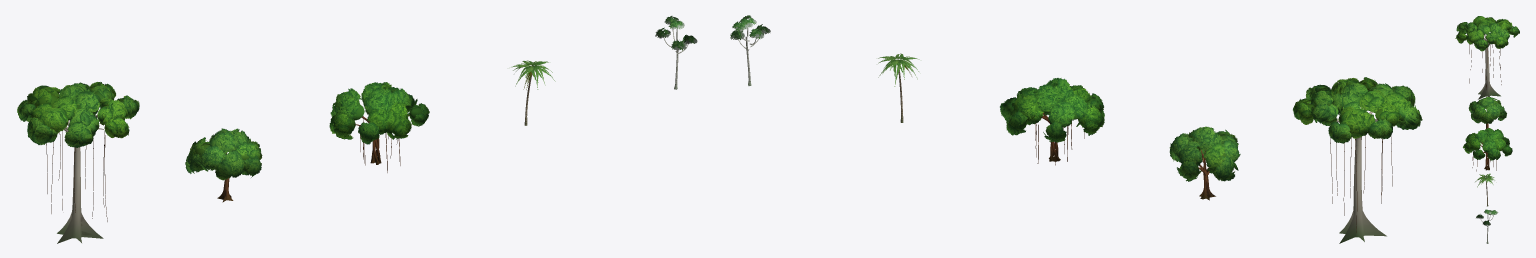
Rendered from EldoriaArvoresTropicais.glb.
3 views of the same model, side by side, from view 1: azimuth 30°, elevation 25°; view 2: azimuth 150°, elevation 25°; view 3: azimuth 270°, elevation 25° (orthographic). The views are drawn at different scales.
Visible parts, largest first — view 1: sumauma_LOD0, figueira_LOD0, copaLarga_LOD0, embauba_LOD0, palmeira_LOD0; view 2: sumauma_LOD0, figueira_LOD0, copaLarga_LOD0, embauba_LOD0, palmeira_LOD0; view 3: sumauma_LOD0, figueira_LOD0, copaLarga_LOD0, embauba_LOD0, palmeira_LOD0.
Boxes of the visible parts, x1,y1,x2,y2 form: sumauma_LOD0: (17,82,139,243); figueira_LOD0: (329,82,429,172); copaLarga_LOD0: (185,128,262,202); embauba_LOD0: (655,16,697,89); palmeira_LOD0: (511,60,555,125); sumauma_LOD0: (1293,77,1422,243); figueira_LOD0: (1000,78,1104,165); copaLarga_LOD0: (1169,126,1240,200); embauba_LOD0: (730,15,770,85); palmeira_LOD0: (878,53,919,122); sumauma_LOD0: (1455,16,1519,99); figueira_LOD0: (1463,128,1512,171); copaLarga_LOD0: (1468,97,1506,128); embauba_LOD0: (1476,209,1498,243); palmeira_LOD0: (1475,173,1494,206).
Size of what is drawn, in the model's own units: 154 by 32.33 by 26.24.
2 materials, 2 textured.
